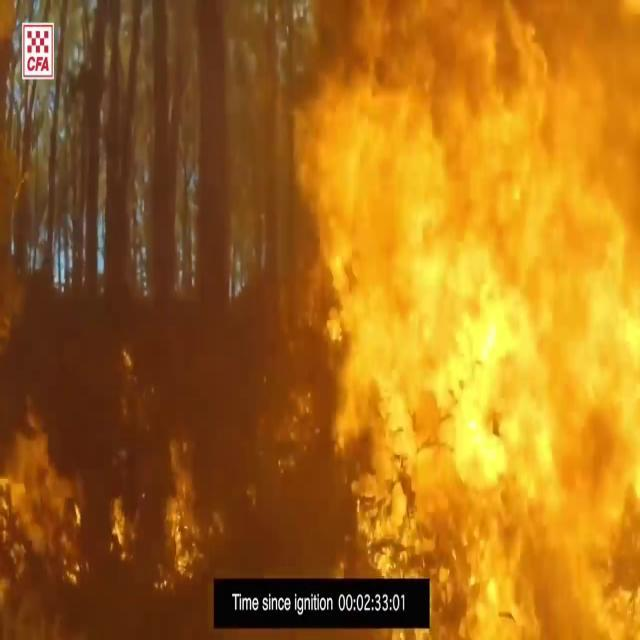Fire: (279, 0, 640, 619), (0, 403, 222, 588)
